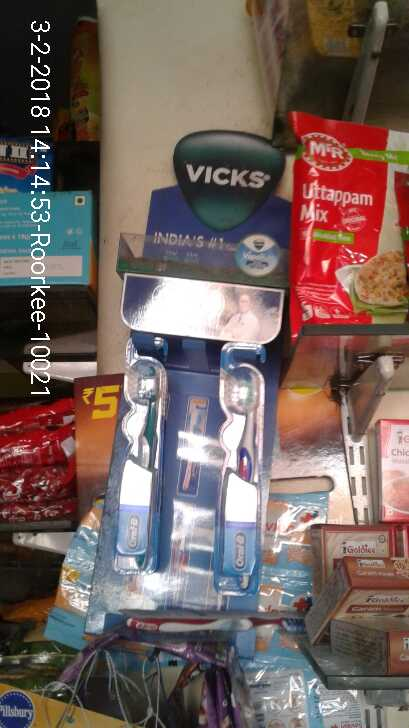oralb: (213, 344, 268, 590), (114, 334, 164, 576)
